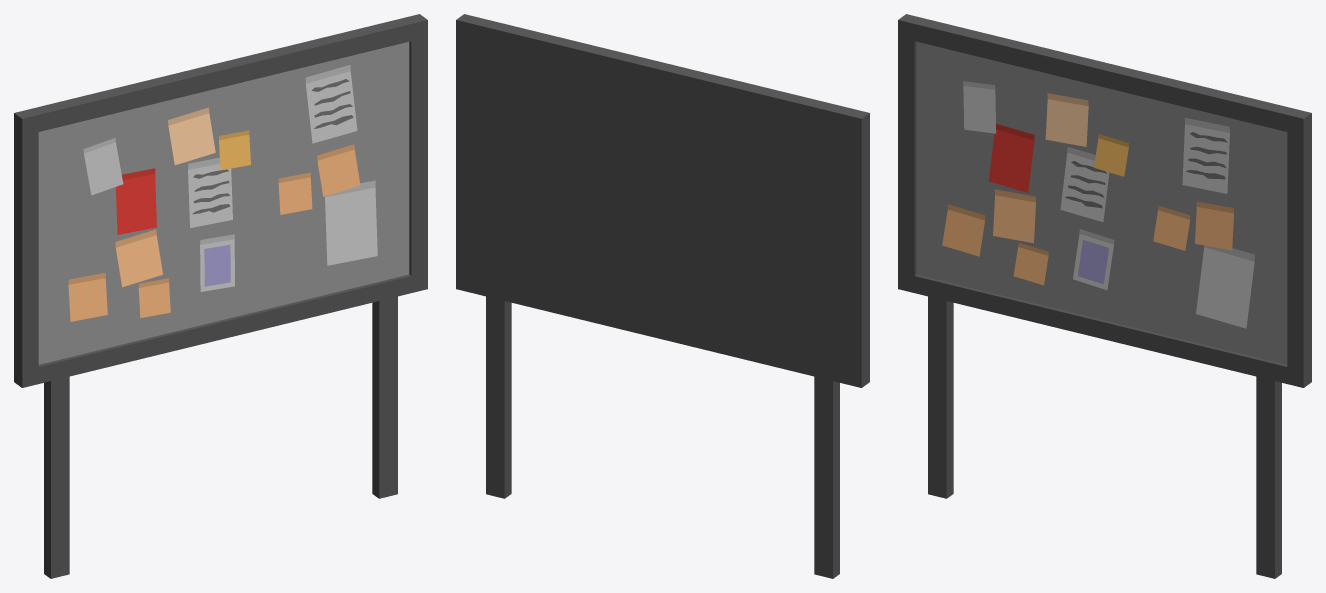
The picture shows the model from 3 angles, left to right: view 1: azimuth 30°, elevation 25°; view 2: azimuth 150°, elevation 25°; view 3: azimuth 330°, elevation 25°; orthographic projection.
Visible parts, largest first — view 1: Ad_01; view 2: Ad_01; view 3: Ad_01.
Boxes of the visible parts, box(x1,y1,x2,y2) form: Ad_01: box(14, 14, 427, 578); Ad_01: box(456, 14, 869, 578); Ad_01: box(898, 14, 1311, 578).
Bounding box in the file's own units: 163 × 180 × 8.15.
